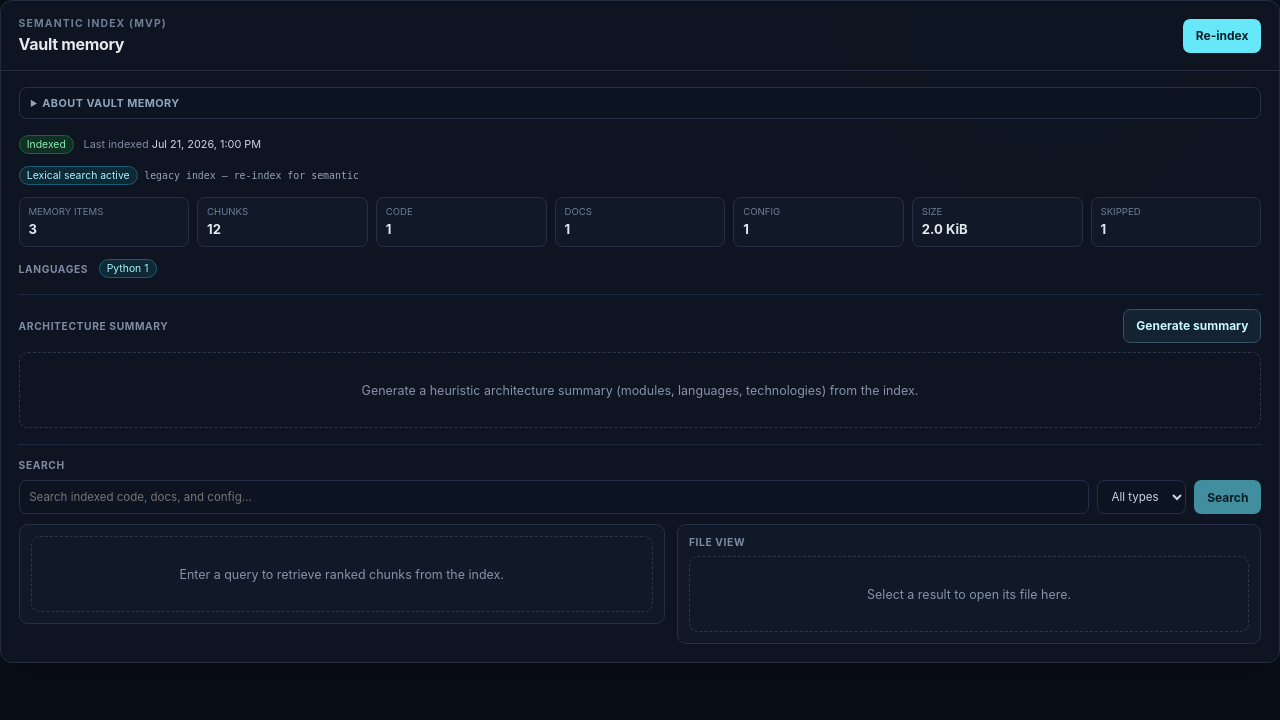
Test case: VaultIndexPanel › renders ranked search results with path, line range, and snippet
Type "authenticate password" into the search field named "Vault search query". click: (554, 497)
box: [19,480,1089,514]
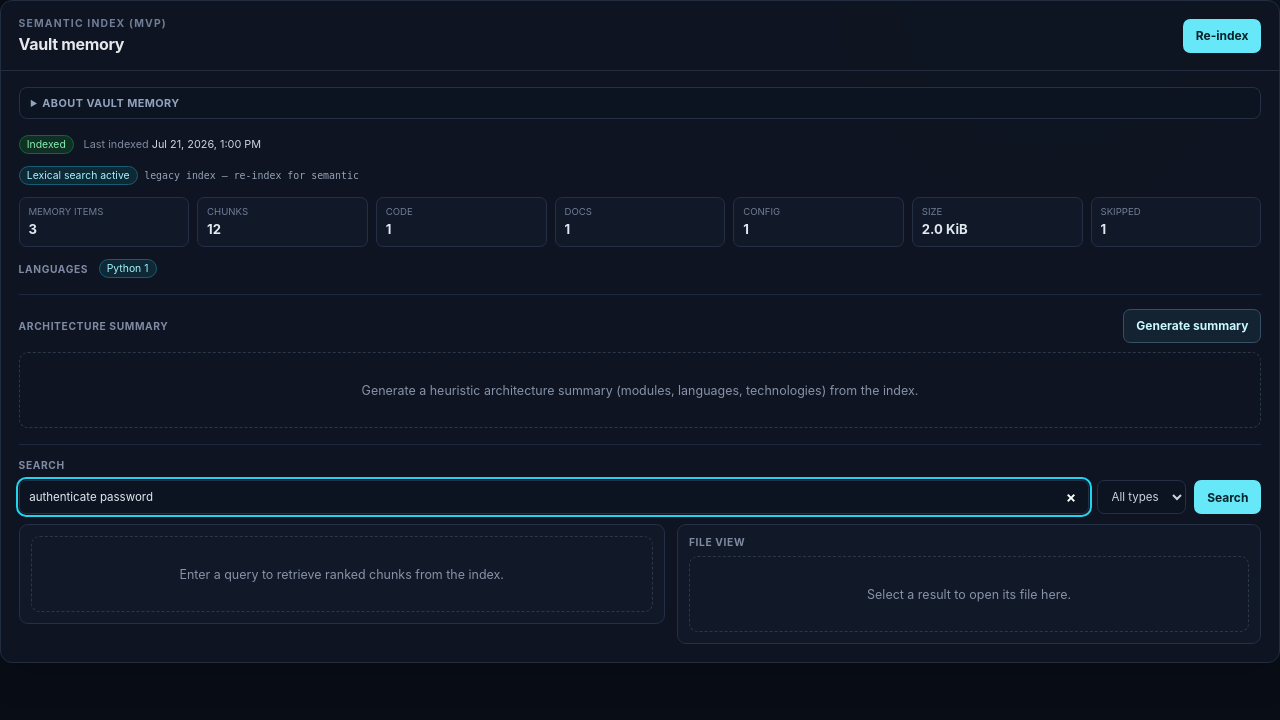
Click the button "Search". click: (1228, 497)
box: [1194,480,1261,514]
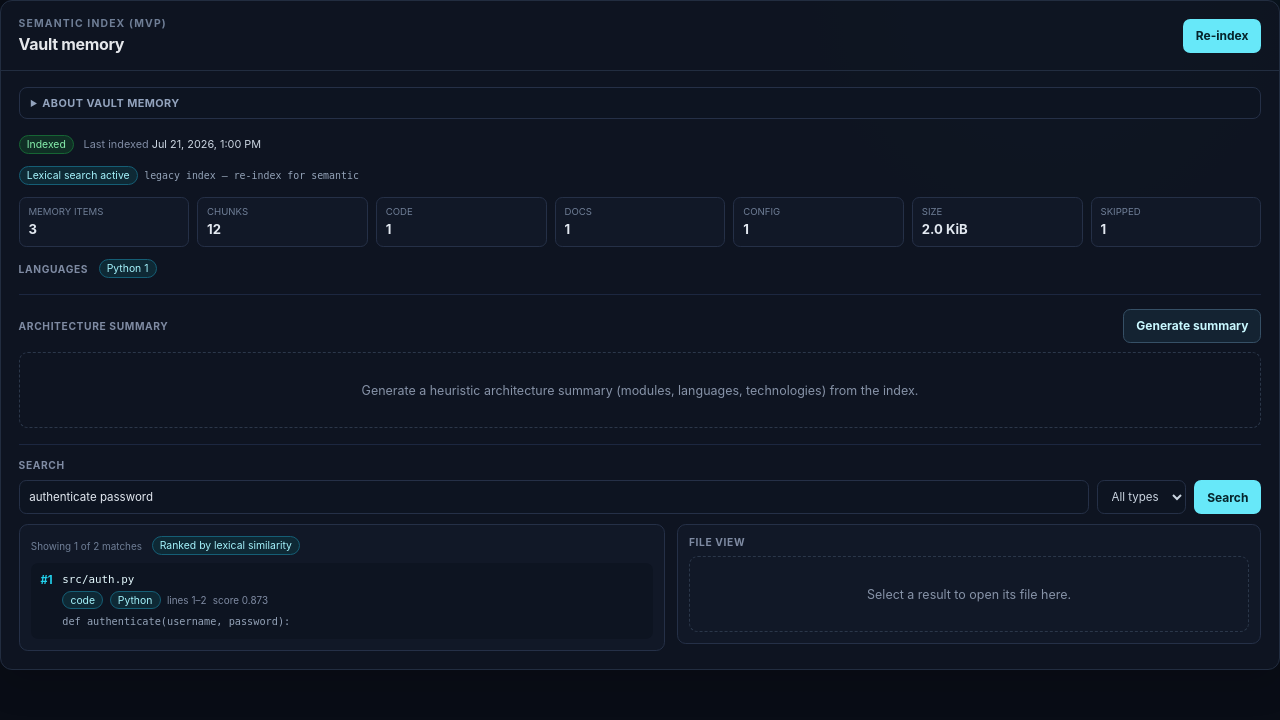
Expected: the text "src/auth.py" is shown, [62,573,134,586]
Expected: the text "def authenticate(username, password):" is shown, [62,614,290,629]
Expected: the text "lines 1–2" is shown, [167,594,206,606]
